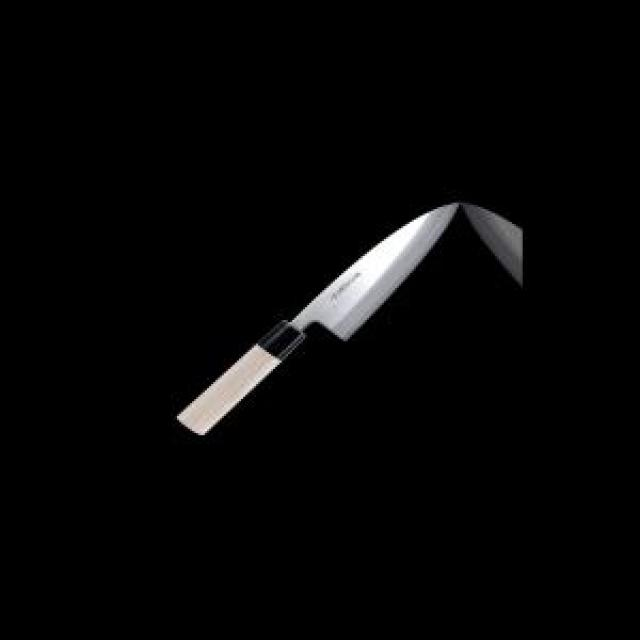knife: (177, 198, 465, 440)
